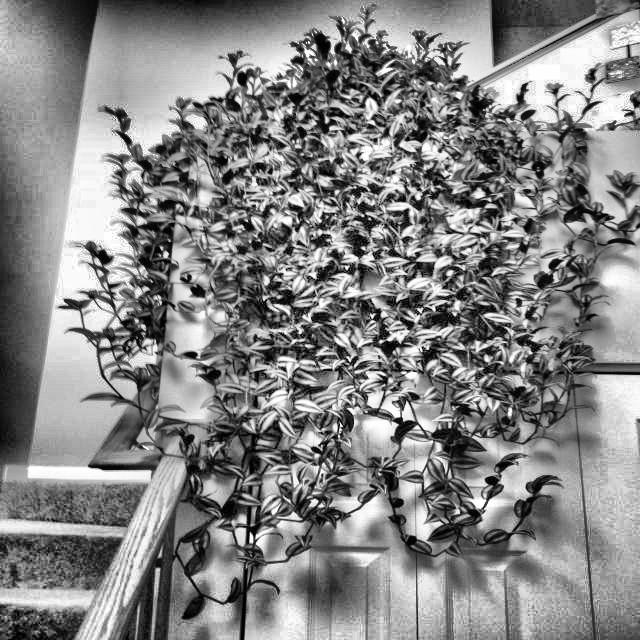plants: (63, 0, 640, 602)
